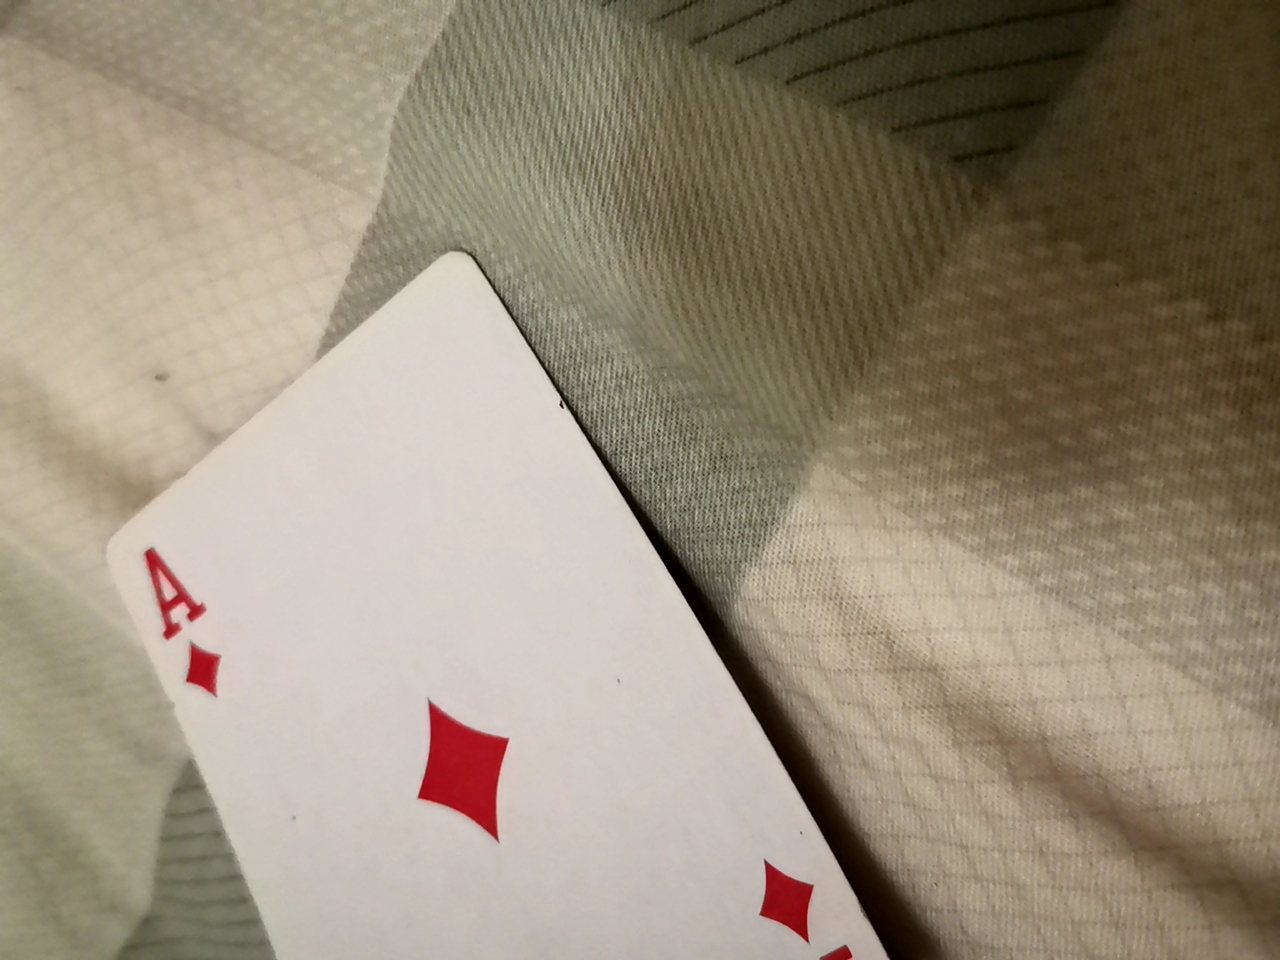fk a: (79, 253, 909, 960)
